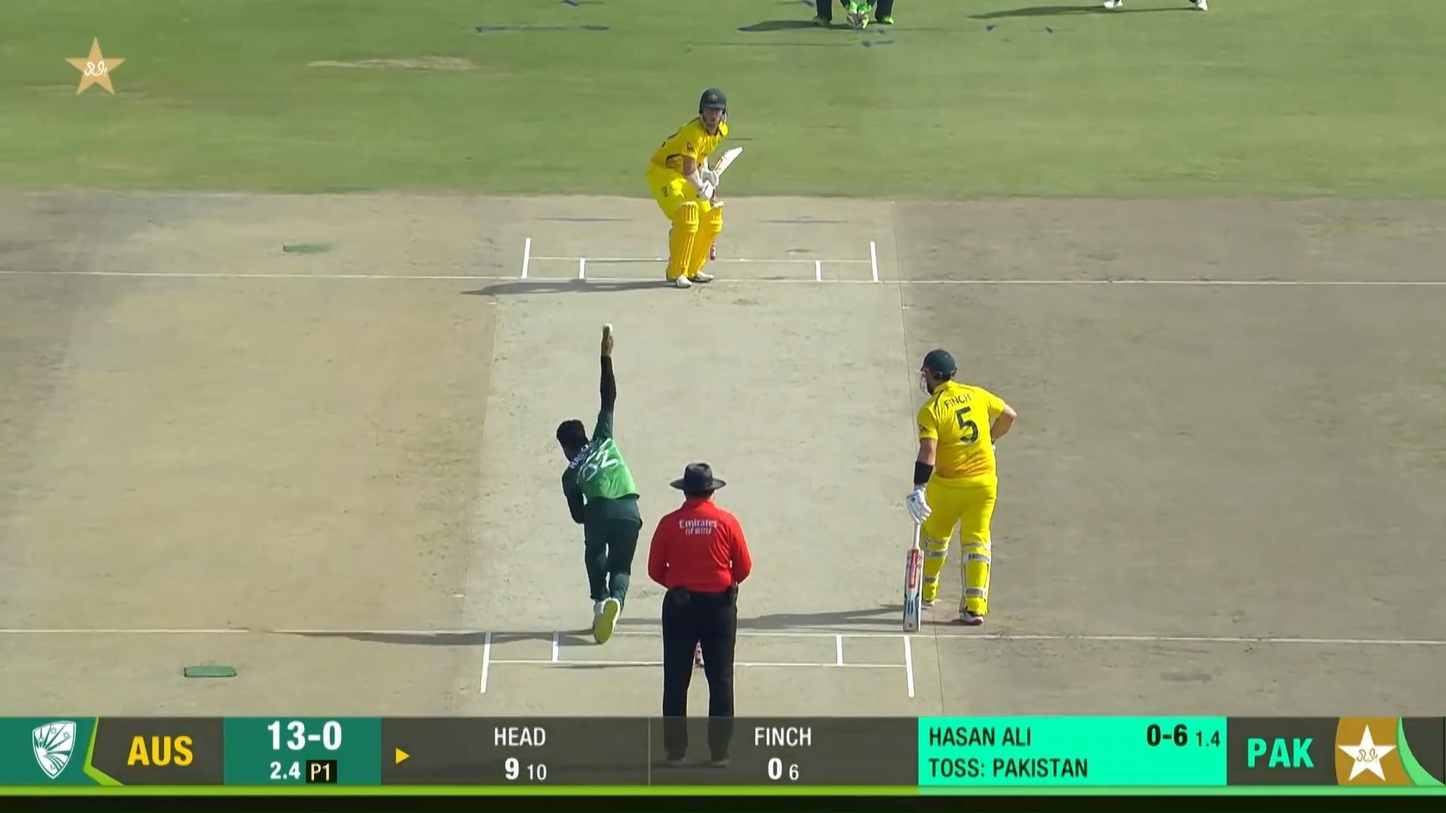BM 1: (643, 88, 744, 289)
BO: (553, 324, 642, 646)
